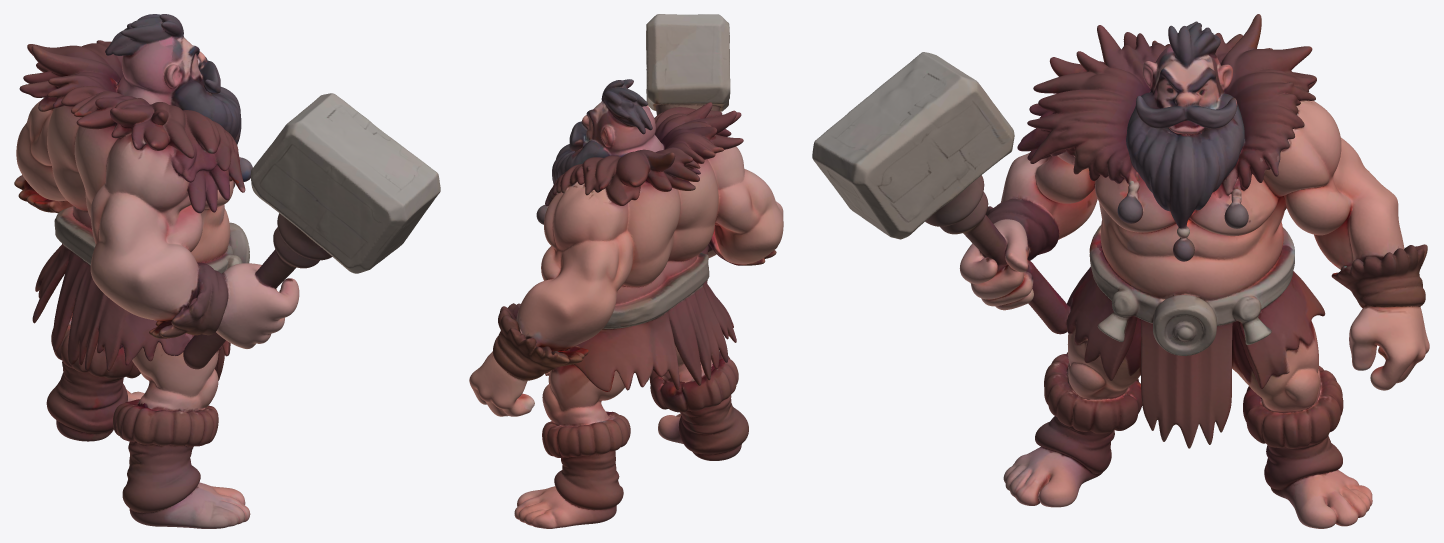
Rendered from ancient_giant.glb.
3 views of the same model, side by side, from view 1: azimuth 30°, elevation 25°; view 2: azimuth 150°, elevation 25°; view 3: azimuth 270°, elevation 25° (orthographic). The views are drawn at different scales.
Visible parts, largest first — view 1: tripo_node_87de450b-8f96-476b-8de5-57ab18eccb62; view 2: tripo_node_87de450b-8f96-476b-8de5-57ab18eccb62; view 3: tripo_node_87de450b-8f96-476b-8de5-57ab18eccb62.
Part boxes in pixels (x1,y1,x2,y2): tripo_node_87de450b-8f96-476b-8de5-57ab18eccb62: (14,14,440,528); tripo_node_87de450b-8f96-476b-8de5-57ab18eccb62: (469,14,783,528); tripo_node_87de450b-8f96-476b-8de5-57ab18eccb62: (812,14,1429,528).
Size of the model in its own units: 0.4874 by 0.8561 by 1.
1 material, 1 textured.
